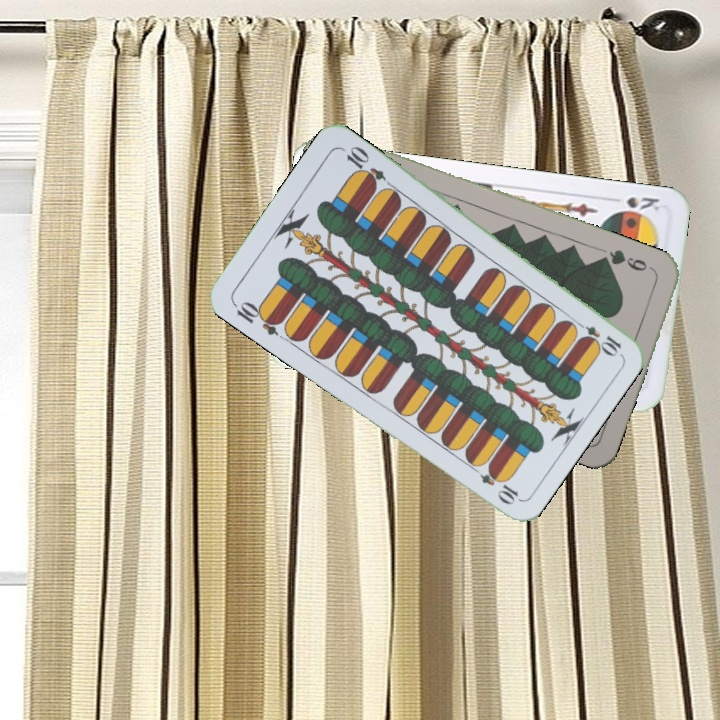E10: (229, 297, 285, 338), (569, 316, 624, 357)
G9: (598, 245, 658, 275)
SK: (611, 192, 662, 218)
